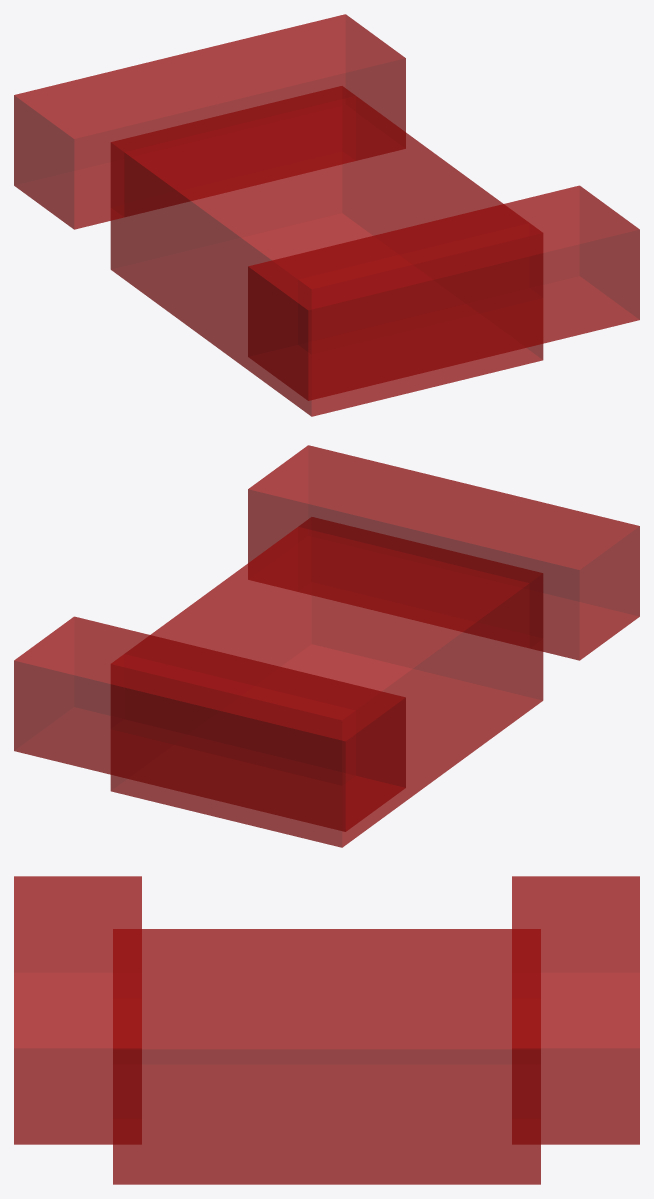
File: SM_Veh_StraddleCarrier_Lifter_01_Collision.fbx
The picture shows the model from 3 angles, top to bottom: view 1: azimuth 30°, elevation 25°; view 2: azimuth 150°, elevation 25°; view 3: azimuth 270°, elevation 25°; orthographic projection. The views are drawn at different scales.
Visible parts, largest first — view 1: SM_Veh_StraddleCarrier_Lifter_01_Collision; view 2: SM_Veh_StraddleCarrier_Lifter_01_Collision; view 3: SM_Veh_StraddleCarrier_Lifter_01_Collision.
Boxes of the visible parts, x1,y1,x2,y2 form: SM_Veh_StraddleCarrier_Lifter_01_Collision: (14,14,639,416); SM_Veh_StraddleCarrier_Lifter_01_Collision: (14,445,639,847); SM_Veh_StraddleCarrier_Lifter_01_Collision: (14,876,639,1184).
Bounding box in the file's own units: 446 × 196 × 685.
